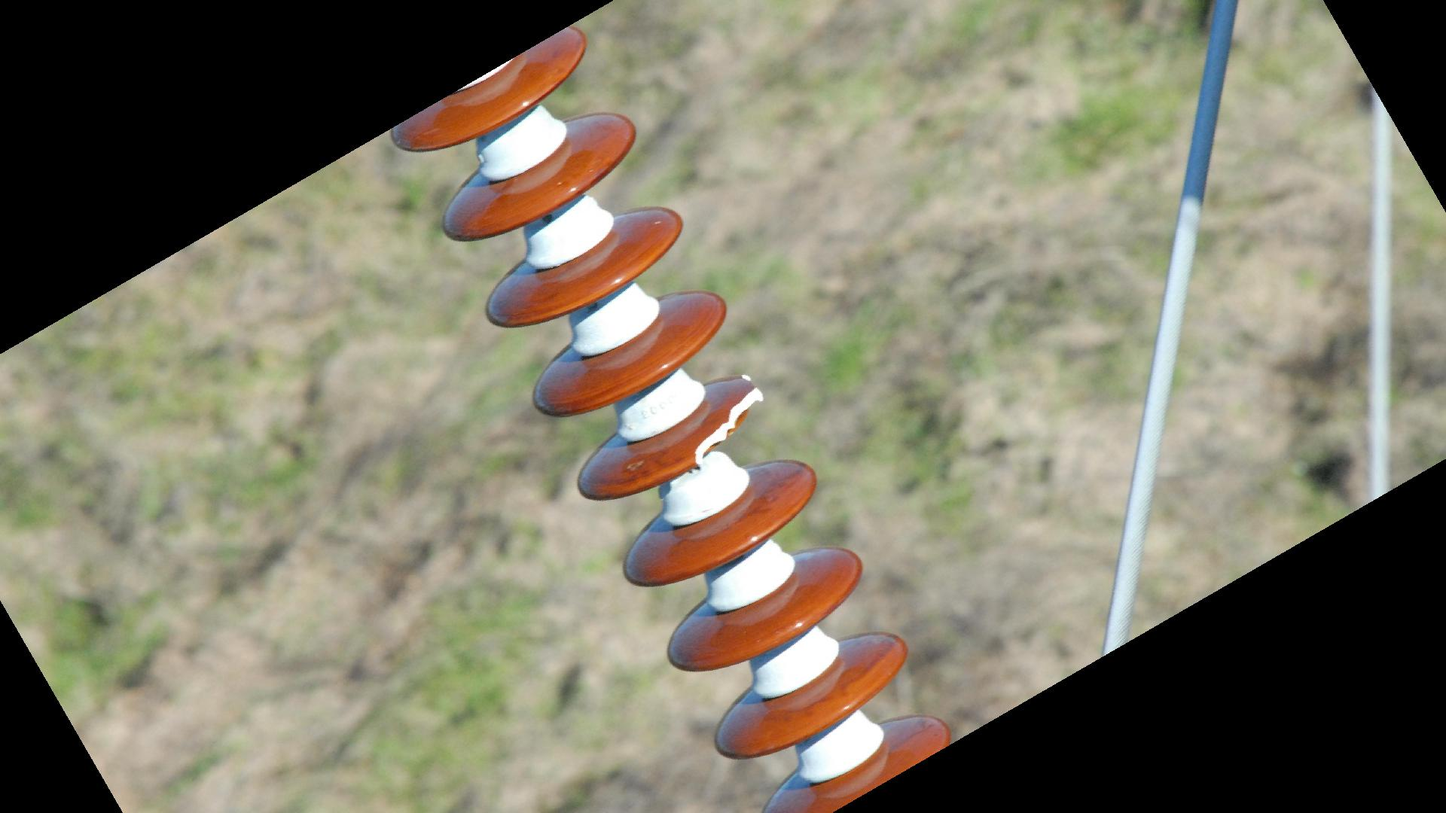insulator: (381, 21, 962, 813)
insulator_breakage: (679, 363, 770, 474)
